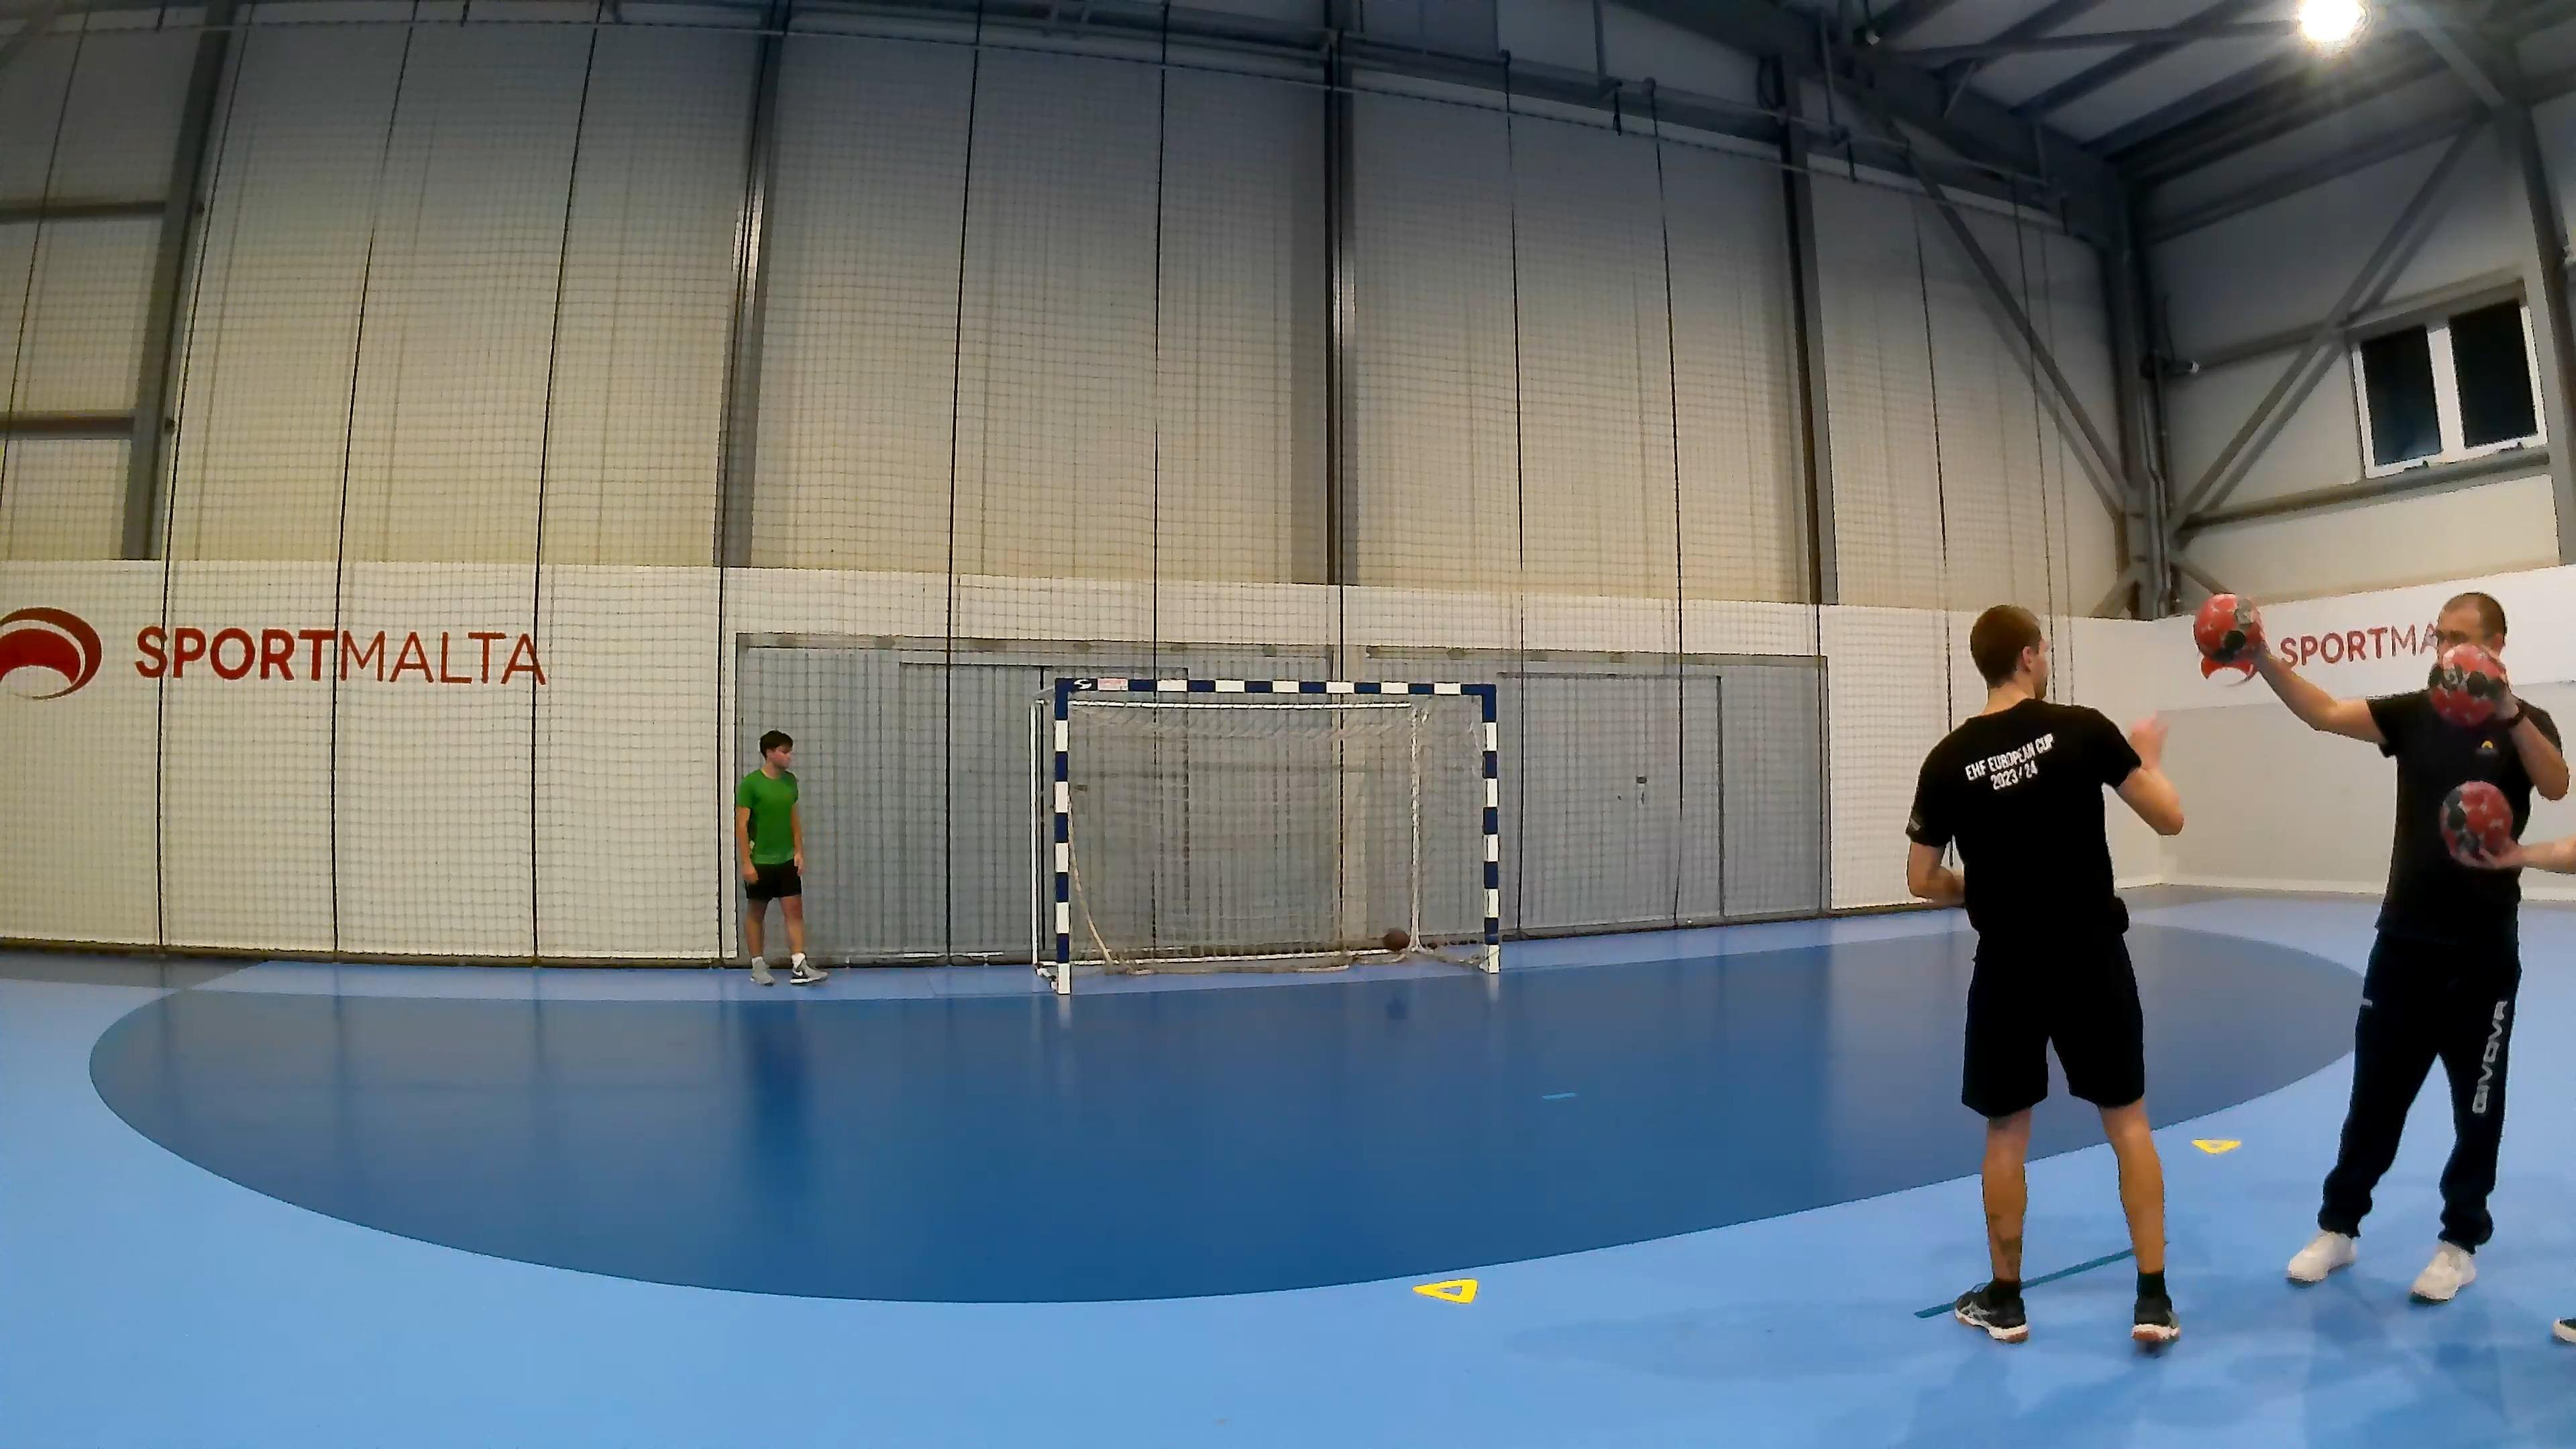handball: (2426, 640, 2509, 729), (2438, 778, 2512, 867), (2190, 591, 2261, 678), (1380, 918, 1408, 959)
